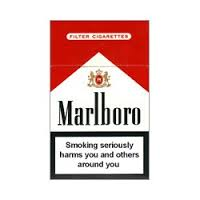marlboro: (50, 21, 149, 180)
